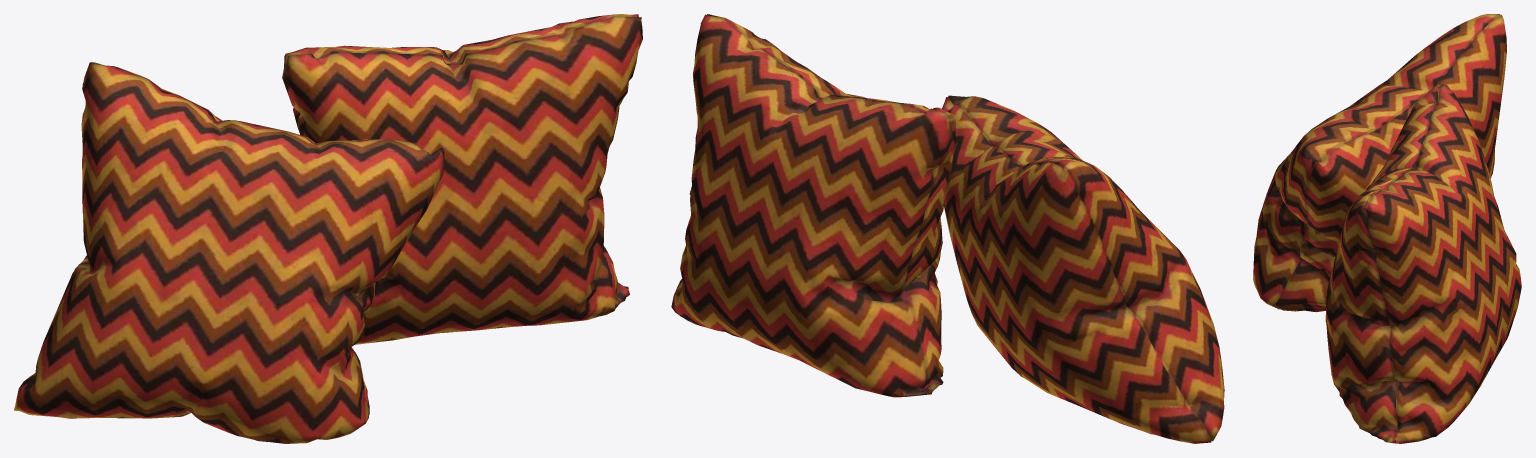
Rendered from throw_pillows_01.glb.
3 views of the same model, side by side, from view 1: azimuth 30°, elevation 25°; view 2: azimuth 150°, elevation 25°; view 3: azimuth 270°, elevation 25° (orthographic). The views are drawn at different scales.
Parts seen in each view (by area): view 1: throw_pillows_01_pillow02; view 2: throw_pillows_01_pillow02; view 3: throw_pillows_01_pillow02.
Part boxes in pixels (box(x1,y1,x2,y2)): throw_pillows_01_pillow02: box(14, 14, 642, 443); throw_pillows_01_pillow02: box(671, 14, 1224, 443); throw_pillows_01_pillow02: box(1253, 14, 1521, 443).
Size of the model in its own units: 0.9401 by 0.4501 by 0.4519.
Materials: 1 (1 with a texture image).
